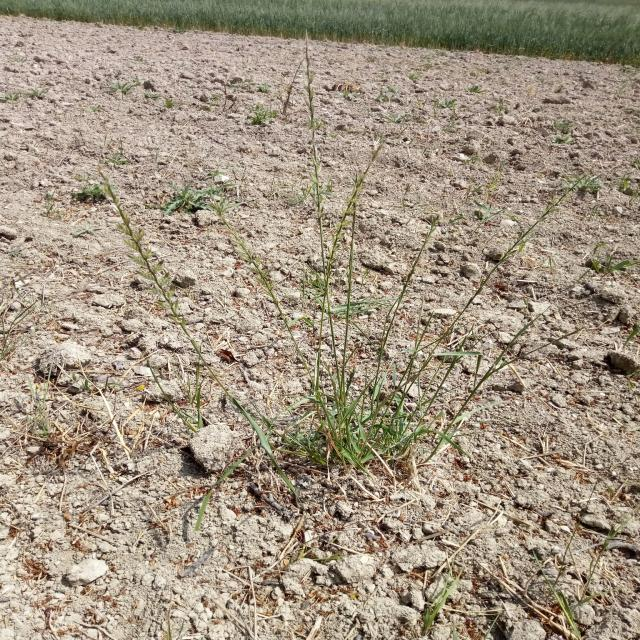Lolium: (94, 168, 184, 322), (314, 144, 390, 303), (495, 170, 590, 267), (208, 200, 282, 314), (298, 34, 327, 215)
